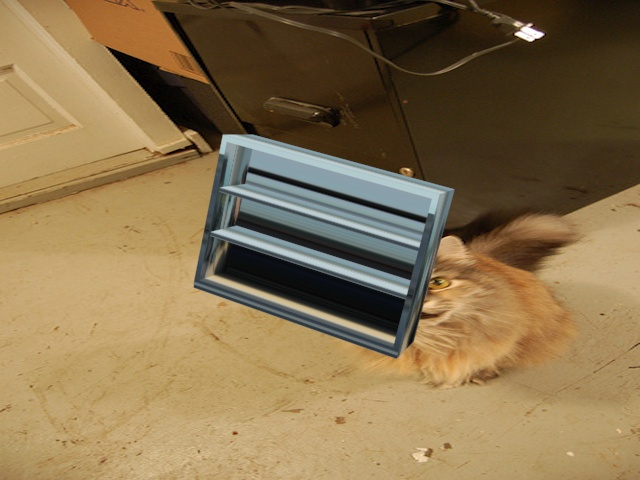bookcase: (192, 128, 465, 368)
